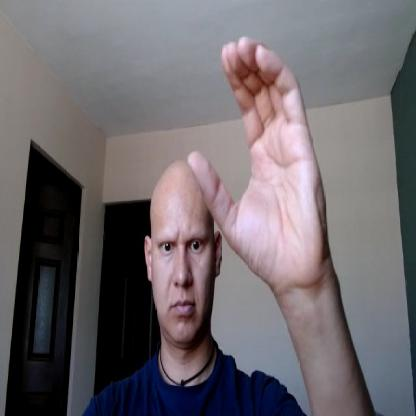C: (188, 35, 331, 286)
